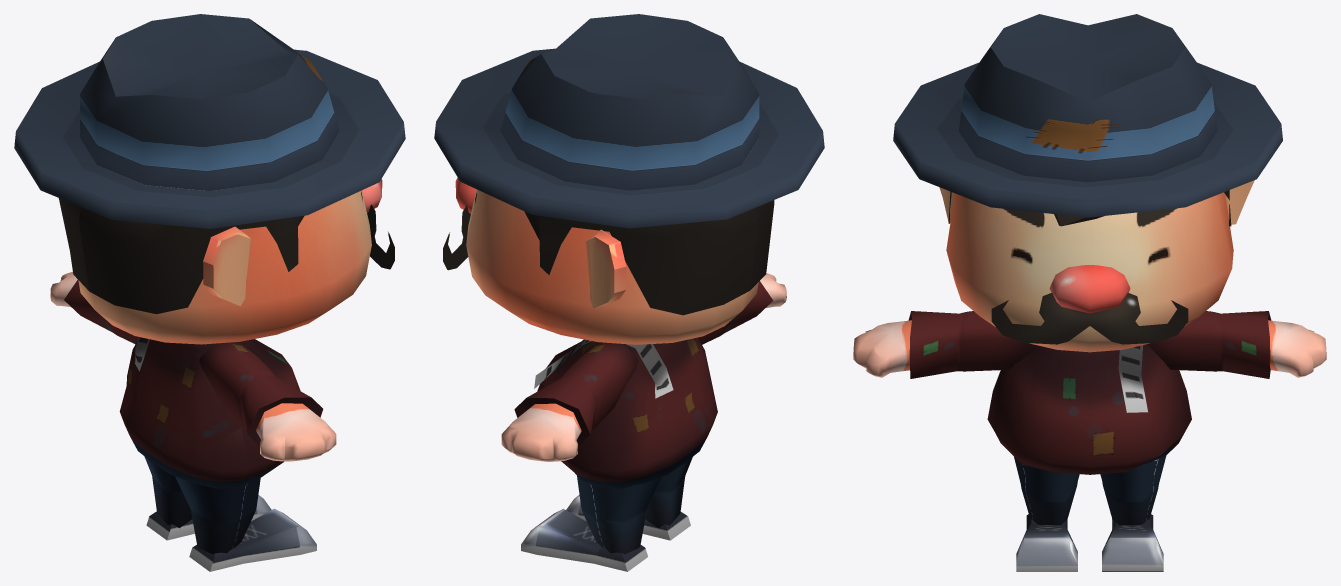
File: Char_Simon_DadPoor.fbx
3 renders of one model, left to right at view 1: azimuth 30°, elevation 25°; view 2: azimuth 150°, elevation 25°; view 3: azimuth 270°, elevation 25°, orthographic.
Visible parts, largest first — view 1: hat, Sponsor_Face, Main_Body, Main_Hair1, Main_Arm_R, Main_Leg_R, Ear_R, Main_Leg_L, Main_Arm_R1, mustache; view 2: hat, Sponsor_Face, Main_Body, Main_Hair1, Main_Arm_R1, Main_Leg_L, Main_Leg_R, Ear_L, Main_Arm_R, cloth, mustache; view 3: hat, Sponsor_Face, Main_Body, Main_Arm_R, Main_Arm_R1, Main_Leg_L, mustache, Main_Leg_R, Nose, cloth, Ear_L.
Boxes of the visible parts, box(x1,y1,x2,y2) form: hat: box(14, 14, 405, 228); Sponsor_Face: box(78, 190, 371, 344); Main_Body: box(119, 339, 300, 488); Main_Hair1: box(58, 198, 304, 314); Main_Arm_R: box(199, 342, 336, 461); Main_Leg_R: box(175, 476, 316, 571); Ear_R: box(203, 226, 251, 306); Main_Leg_L: box(144, 456, 271, 540); Main_Arm_R1: box(50, 271, 138, 344); mustache: box(367, 204, 394, 269); hat: box(434, 14, 824, 228); Sponsor_Face: box(466, 189, 758, 344); Main_Body: box(537, 337, 717, 488); Main_Hair1: box(524, 200, 774, 315); Main_Arm_R1: box(501, 342, 638, 461); Main_Leg_L: box(521, 476, 661, 571); Main_Leg_R: box(566, 457, 692, 540); Ear_L: box(586, 229, 626, 308); Main_Arm_R: box(698, 273, 786, 344); cloth: box(534, 339, 673, 398); mustache: box(443, 205, 470, 270); hat: box(893, 14, 1282, 217); Sponsor_Face: box(946, 192, 1233, 352); Main_Body: box(987, 344, 1191, 474); Main_Arm_R: box(853, 311, 1037, 378); Main_Arm_R1: box(1147, 311, 1326, 378); Main_Leg_L: box(1100, 456, 1166, 571); mustache: box(991, 293, 1188, 344); Main_Leg_R: box(1014, 457, 1079, 571); Nose: box(1049, 265, 1130, 313); cloth: box(1118, 345, 1147, 412); Ear_L: box(1225, 180, 1254, 224).
Size of the model in its own units: 5.48 by 7.48 by 6.58.
